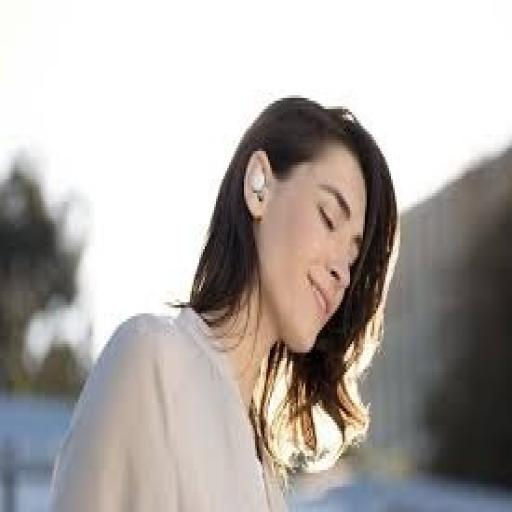listening_to_music: (43, 92, 402, 510)
